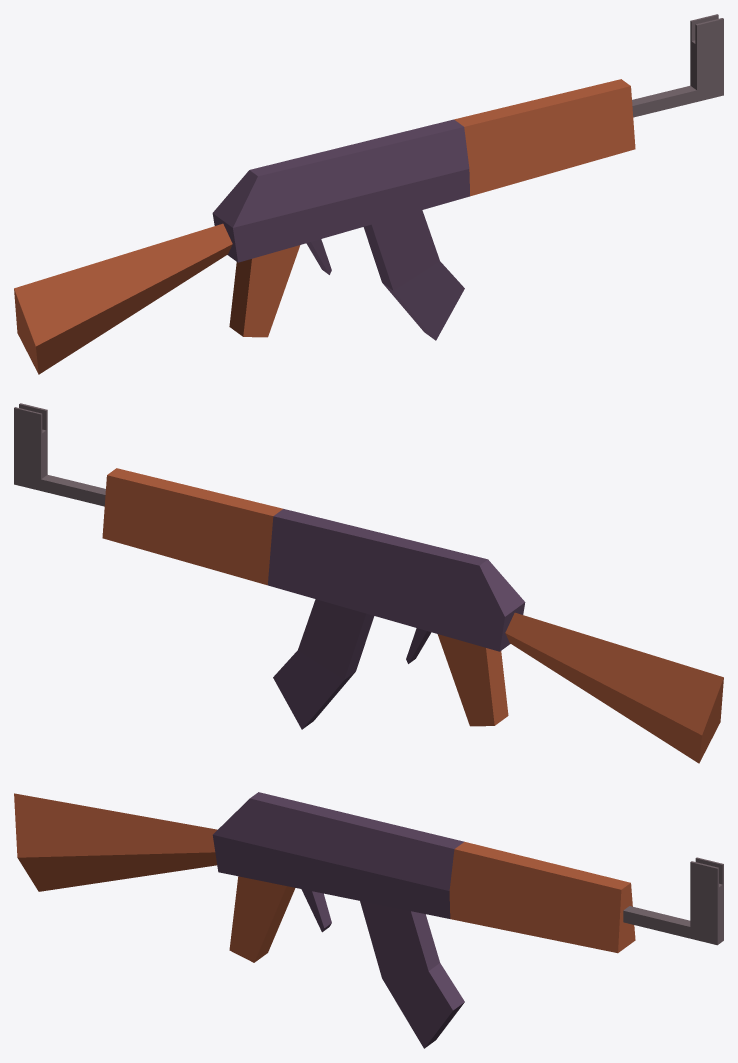
3 renders of one model, top to bottom at view 1: azimuth 30°, elevation 25°; view 2: azimuth 150°, elevation 25°; view 3: azimuth 330°, elevation 25°, orthographic.
Visible parts, largest first — view 1: ak1; view 2: ak1; view 3: ak1.
Boxes of the visible parts, x1=… form: ak1: x1=14, y1=14, x2=723, y2=374; ak1: x1=14, y1=403, x2=723, y2=763; ak1: x1=14, y1=792, x2=723, y2=1048.
Size of the model in its own units: 445 by 150 by 22.13.
